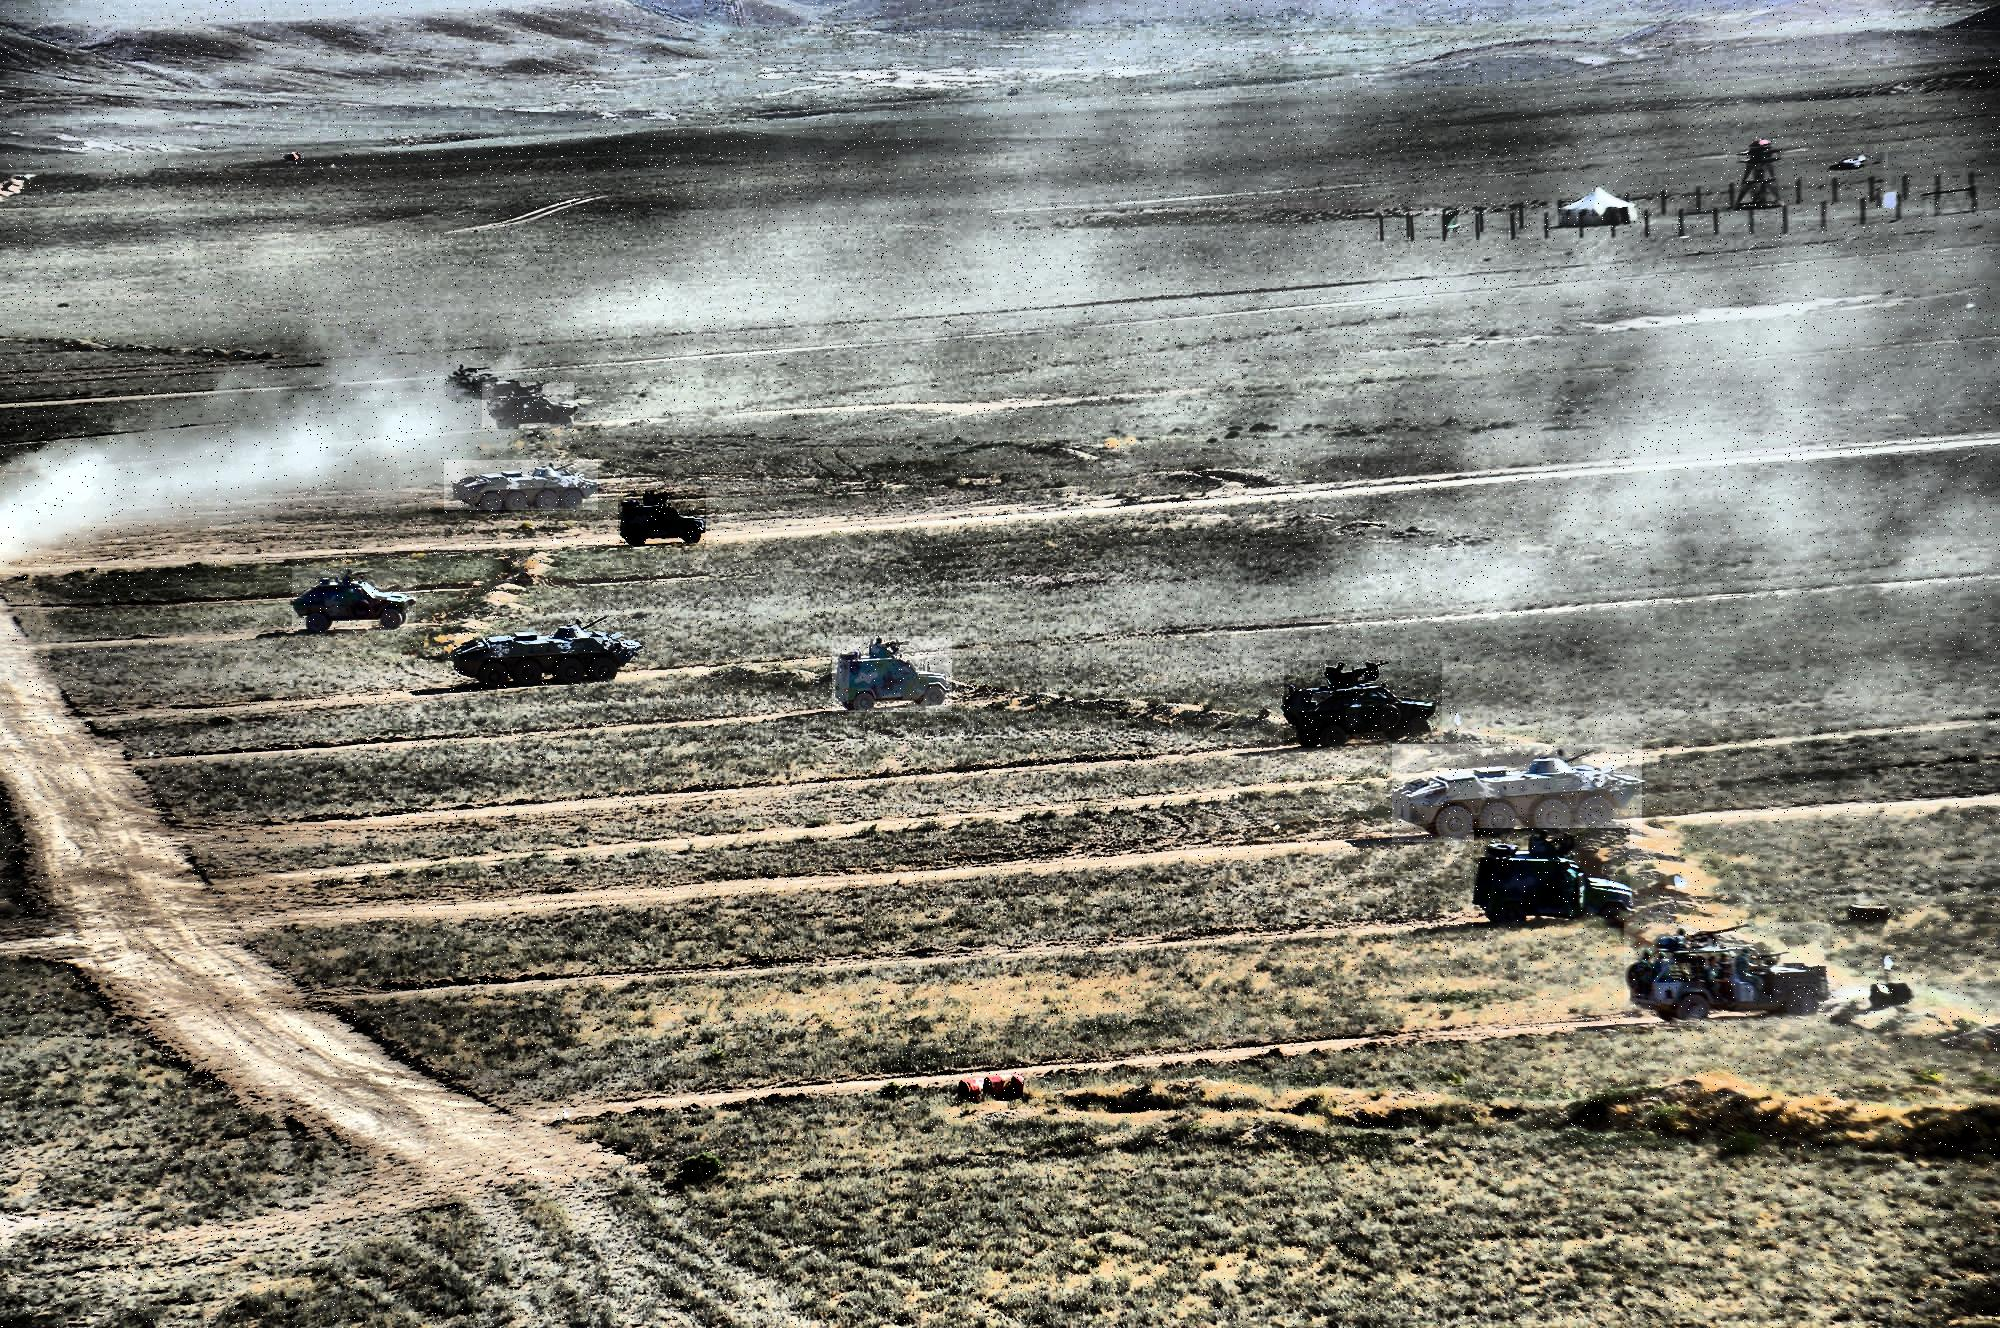military-vehicle: (1392, 744, 1642, 842), (1624, 922, 1830, 1026), (1474, 828, 1630, 928), (1284, 660, 1442, 748), (452, 616, 636, 690), (832, 636, 952, 712), (292, 568, 416, 632), (444, 460, 598, 510), (618, 488, 706, 548), (482, 382, 574, 428)
